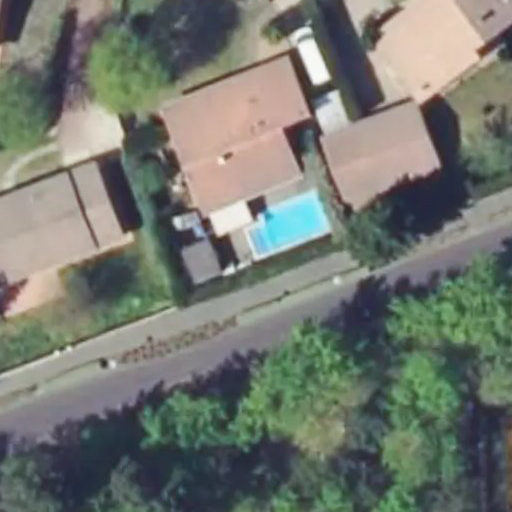pool: (248, 195, 327, 259)
